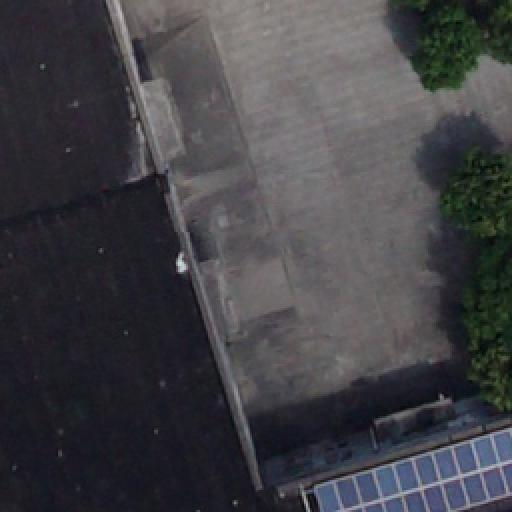solar-panel: (312, 424, 512, 512)
